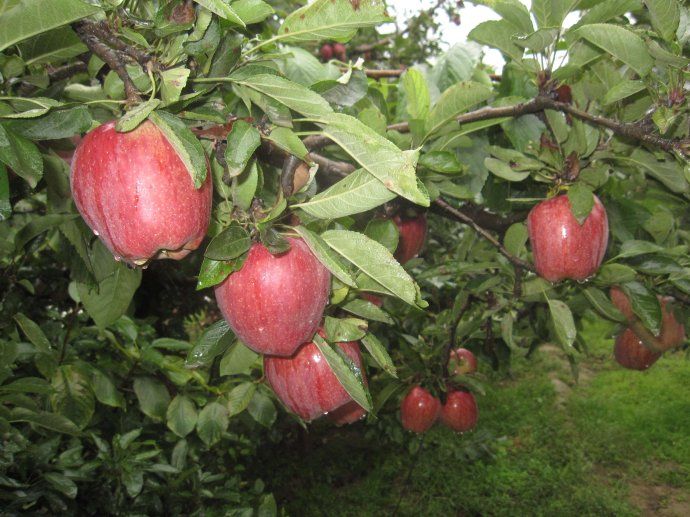apple: (399, 385, 441, 433), (439, 386, 477, 433)
obscured(1)_apple: (69, 113, 211, 263), (214, 234, 331, 354), (526, 187, 610, 280)
obscured(2)_apple: (262, 335, 370, 422)
